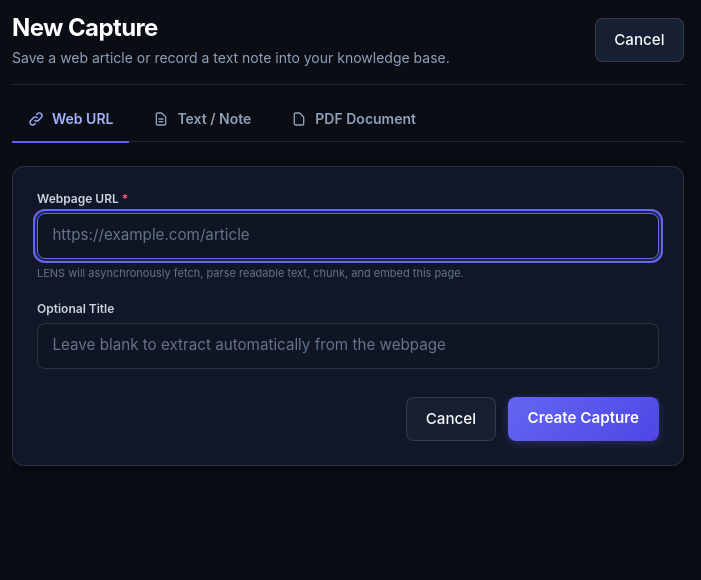
Test: Stage 12 Web PDF / File Capture UX (Tests 1-28) › switches to PDF Document tab in NewCapturePage
Click the button with test id "tab-file". click: (354, 126)
box: [275, 109, 432, 143]
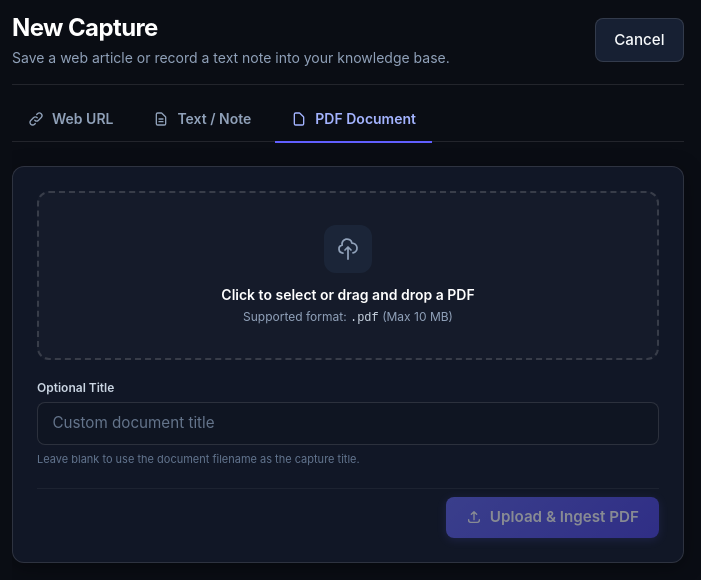
Result: the element with test id "pdf-dropzone" is shown at [37, 191, 659, 360]
